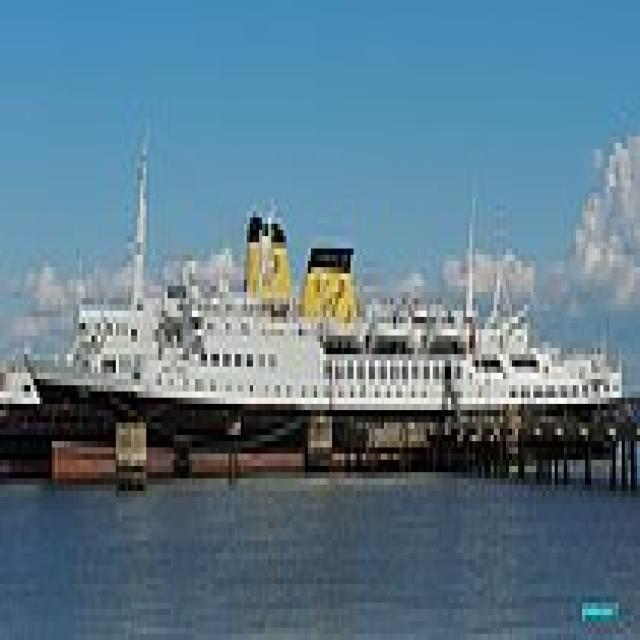Ship: (26, 262, 349, 486)
